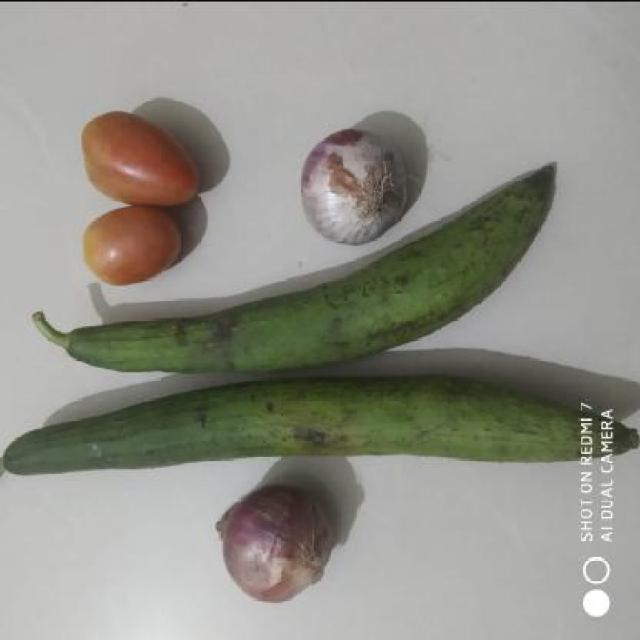onion: (208, 472, 347, 620), (289, 116, 409, 247)
tomato: (80, 107, 214, 211), (80, 205, 188, 288)
